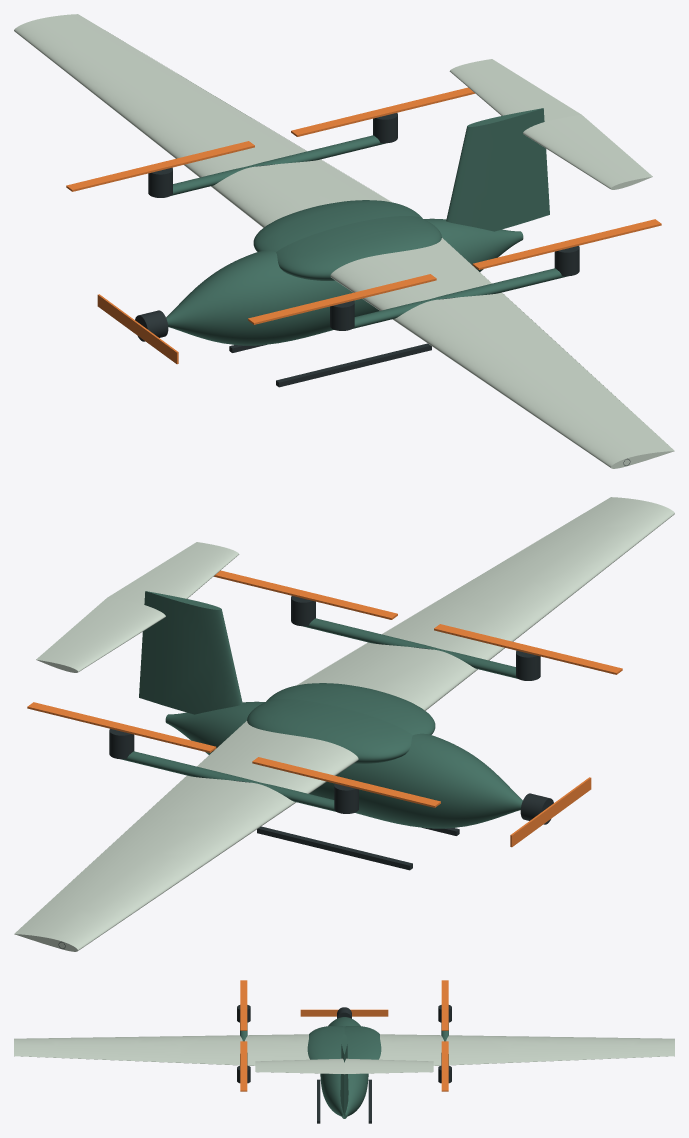
Rendered from control-01-model.glb.
3 views of the same model, one above another, from view 1: azimuth 30°, elevation 25°; view 2: azimuth 150°, elevation 25°; view 3: azimuth 270°, elevation 25° (orthographic). The views are drawn at different scales.
Visible parts, largest first — view 1: wing-1, wing1, fuselage, fin, root_fairing-1, tail-1, root_fairing1, tail1, boom_fairing-1, boom_fairing1, prop_-1_700.0, prop_-1_200.0 (+7 smaller); view 2: wing1, wing-1, fuselage, fin, root_fairing1, tail1, root_fairing-1, tail-1, boom_fairing1, boom_fairing-1, prop_1_700.0, prop_-1_200.0 (+7 smaller); view 3: wing-1, wing1, fuselage, tail-1, tail1, root_fairing-1, root_fairing1, cruise_prop, fin, prop_-1_200.0, prop_-1_700.0, prop_1_200.0 (+1 smaller).
Part boxes in pixels (x1=…): wing-1: x1=330, y1=238, x2=674, y2=468; wing1: x1=14, y1=14, x2=391, y2=227; fuselage: x1=166, y1=218, x2=523, y2=345; fin: x1=446, y1=108, x2=549, y2=231; root_fairing-1: x1=276, y1=216, x2=441, y2=280; tail-1: x1=523, y1=114, x2=652, y2=189; root_fairing1: x1=253, y1=200, x2=422, y2=251; tail1: x1=449, y1=59, x2=581, y2=121; boom_fairing-1: x1=353, y1=268, x2=567, y2=328; boom_fairing1: x1=171, y1=135, x2=385, y2=195; prop_-1_700.0: x1=472, y1=219, x2=661, y2=269; prop_-1_200.0: x1=248, y1=274, x2=436, y2=324; wing1: x1=14, y1=721, x2=358, y2=951; wing-1: x1=297, y1=497, x2=674, y2=710; fuselage: x1=165, y1=701, x2=522, y2=828; fin: x1=139, y1=591, x2=242, y2=714; root_fairing1: x1=247, y1=699, x2=412, y2=763; tail1: x1=36, y1=597, x2=165, y2=672; root_fairing-1: x1=266, y1=683, x2=435, y2=734; tail-1: x1=107, y1=542, x2=239, y2=604; boom_fairing1: x1=121, y1=751, x2=335, y2=811; boom_fairing-1: x1=303, y1=618, x2=517, y2=678; prop_1_700.0: x1=27, y1=702, x2=216, y2=752; prop_-1_200.0: x1=434, y1=624, x2=622, y2=674; wing-1: x1=14, y1=1034, x2=309, y2=1065; wing1: x1=379, y1=1034, x2=674, y2=1065; fuselage: x1=320, y1=1017, x2=368, y2=1118; tail-1: x1=255, y1=1058, x2=344, y2=1074; tail1: x1=344, y1=1058, x2=433, y2=1073; root_fairing-1: x1=307, y1=1026, x2=344, y2=1059; root_fairing1: x1=344, y1=1026, x2=381, y2=1059; cruise_prop: x1=300, y1=1009, x2=388, y2=1016; fin: x1=340, y1=1034, x2=348, y2=1116; prop_-1_200.0: x1=240, y1=980, x2=247, y2=1030; prop_-1_700.0: x1=240, y1=1041, x2=247, y2=1091; prop_1_200.0: x1=441, y1=980, x2=448, y2=1030.
Size of the model in its own units: 989 by 405 by 2300.
